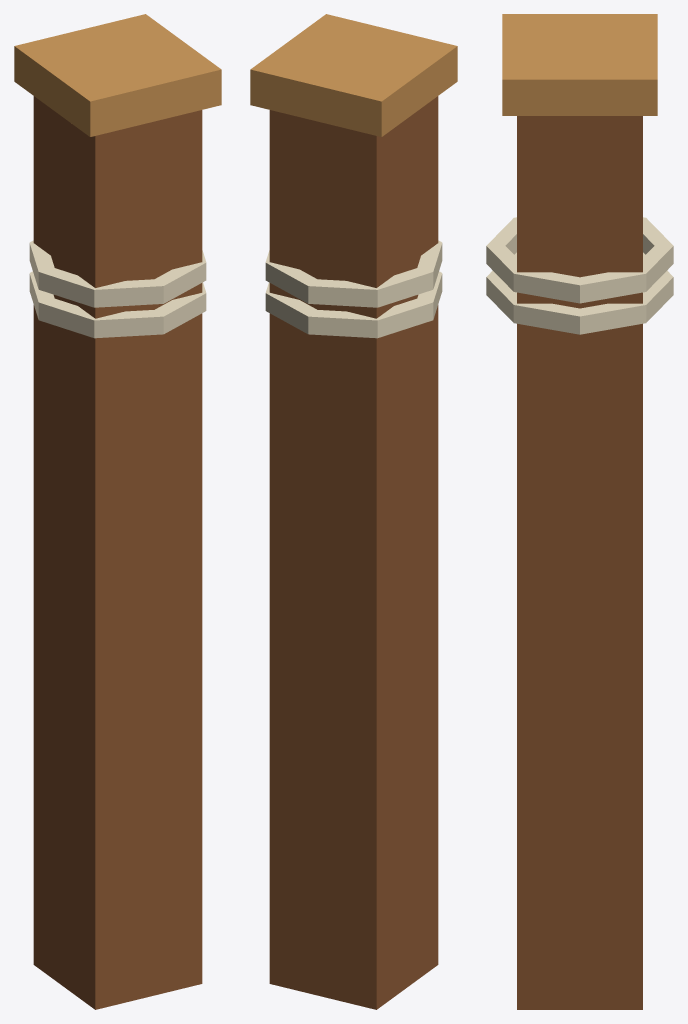
Rendered from dock_kit__dock_pile_3.glb.
3 views of the same model, side by side, from view 1: azimuth 30°, elevation 25°; view 2: azimuth 150°, elevation 25°; view 3: azimuth 270°, elevation 25° (orthographic). The views are drawn at different scales.
Visible parts, largest first — view 1: dock_pile_3__wood.001, dock_pile_3__wood3.001, dock_pile_3__cream.001; view 2: dock_pile_3__wood.001, dock_pile_3__wood3.001, dock_pile_3__cream.001; view 3: dock_pile_3__wood.001, dock_pile_3__wood3.001, dock_pile_3__cream.001.
Boxes of the visible parts, box(x1,y1,x2,y2) form: dock_pile_3__wood.001: box(33, 96, 202, 1009); dock_pile_3__wood3.001: box(14, 14, 221, 136); dock_pile_3__cream.001: box(29, 240, 206, 338); dock_pile_3__wood.001: box(269, 96, 438, 1009); dock_pile_3__wood3.001: box(250, 14, 457, 136); dock_pile_3__cream.001: box(265, 240, 442, 338); dock_pile_3__wood.001: box(517, 116, 642, 1009); dock_pile_3__wood3.001: box(502, 14, 657, 115); dock_pile_3__cream.001: box(486, 217, 673, 334).
Bounding box in the file's own units: 0.326 × 1.8 × 0.326.
